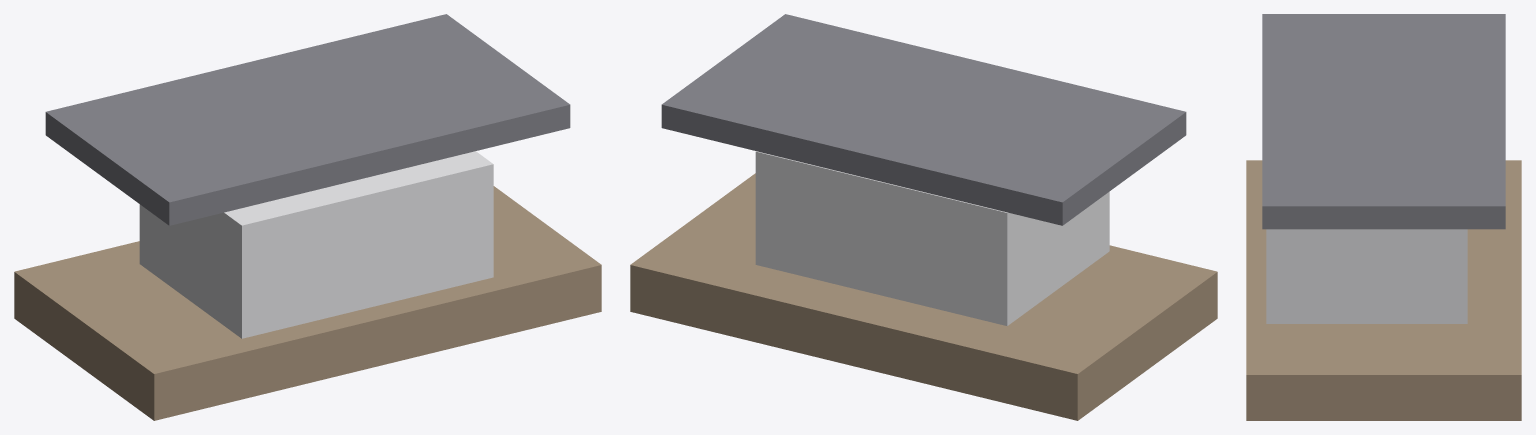
File: demo-organizador.gltf
3 renders of one model, left to right at view 1: azimuth 30°, elevation 25°; view 2: azimuth 150°, elevation 25°; view 3: azimuth 270°, elevation 25°, orthographic.
Visible parts, largest first — view 1: prateleira, base, gaveta; view 2: prateleira, base, gaveta; view 3: prateleira, base, gaveta.
Part boxes in pixels (x1,y1,x2,y2): prateleira: (45,14,570,225); base: (14,186,601,420); gaveta: (139,151,493,338); prateleira: (661,14,1186,225); base: (630,173,1217,420); gaveta: (755,151,1109,325); prateleira: (1262,14,1505,229); base: (1246,160,1521,420); gaveta: (1266,229,1467,323).
Size of the model in its own units: 2.4 by 1.06 by 1.3.
